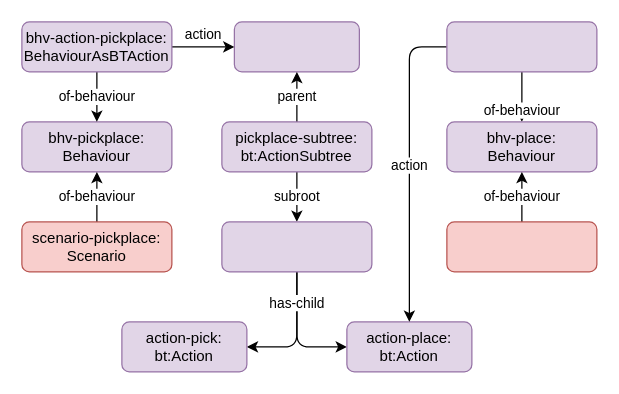
Image size: 619x394. Some labels were removed from this diagram. The shapes that lost their labels are listed below. From the top down, each one's centre as x and y in pixels, then its label:
[296,46]: action-pickplace: bt:Action
[521,46]: bhv-action-place: BehaviourAsBTAction
[296,246]: pickplace-subtree: bt:Sequence
[521,246]: scenario-place: Scenario
